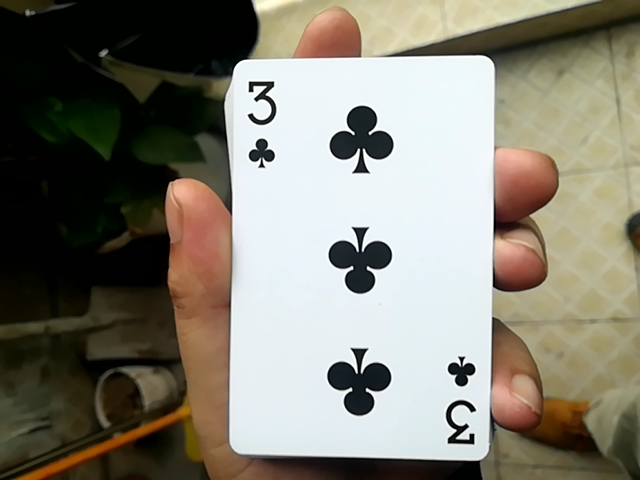mh 3: (223, 41, 489, 470)
